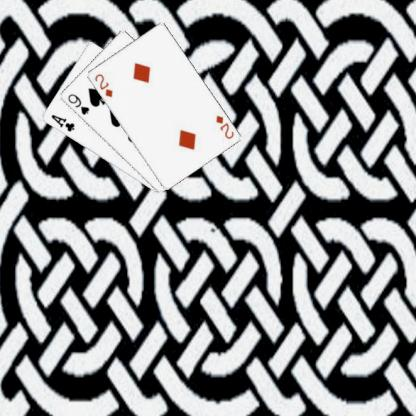2D: (212, 113, 235, 140), (92, 71, 114, 99)
9S: (64, 91, 90, 116)
AC: (48, 112, 76, 133)
